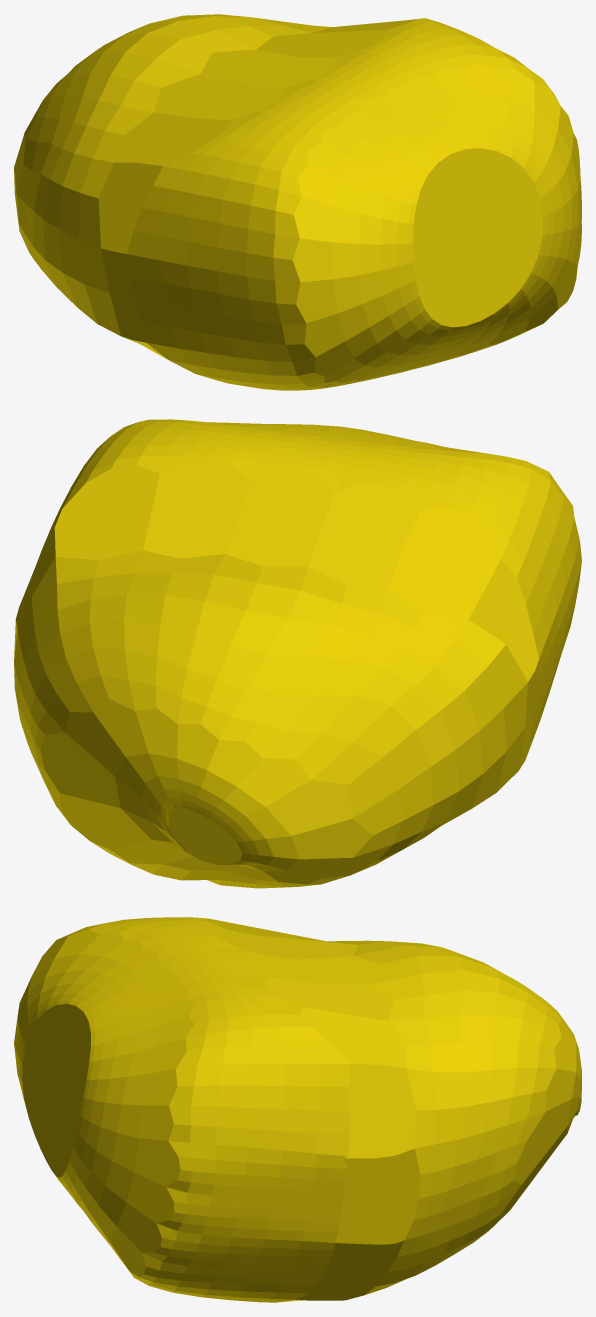
File: Kukurica.glb
3 renders of one model, top to bottom at view 1: azimuth 30°, elevation 25°; view 2: azimuth 150°, elevation 25°; view 3: azimuth 270°, elevation 25°, orthographic. The views are drawn at different scales.
Parts seen in each view (by area): view 1: Kukurica; view 2: Kukurica; view 3: Kukurica.
Boxes of the visible parts, box(x1,y1,x2,y2) form: Kukurica: box(14, 14, 581, 390); Kukurica: box(14, 419, 581, 888); Kukurica: box(14, 917, 581, 1302).
Bounding box in the file's own units: 0.00555 × 0.00364 × 0.00649.
